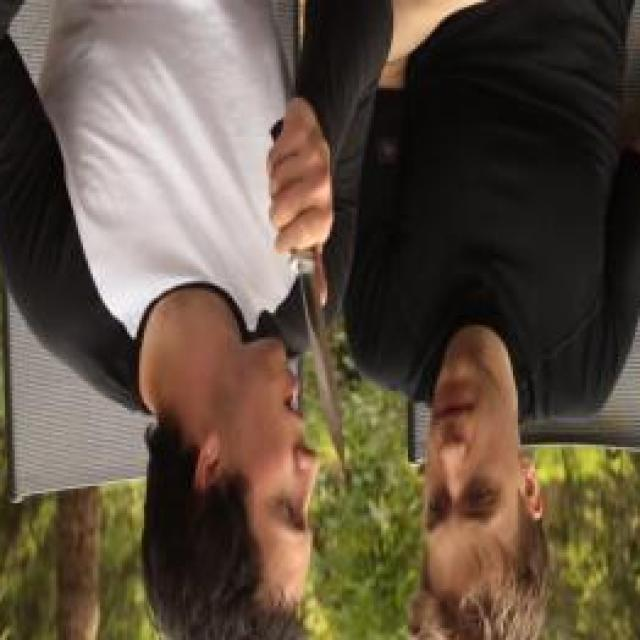knife: (261, 105, 352, 481)
